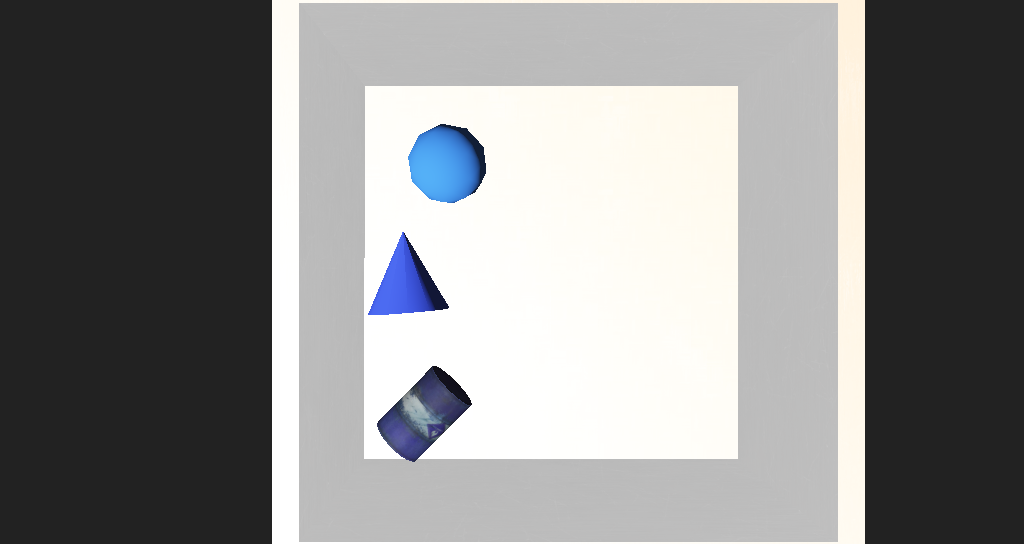cone: (360, 320, 448, 377)
cylinder: (330, 239, 438, 296)
sphere: (394, 188, 455, 231)
